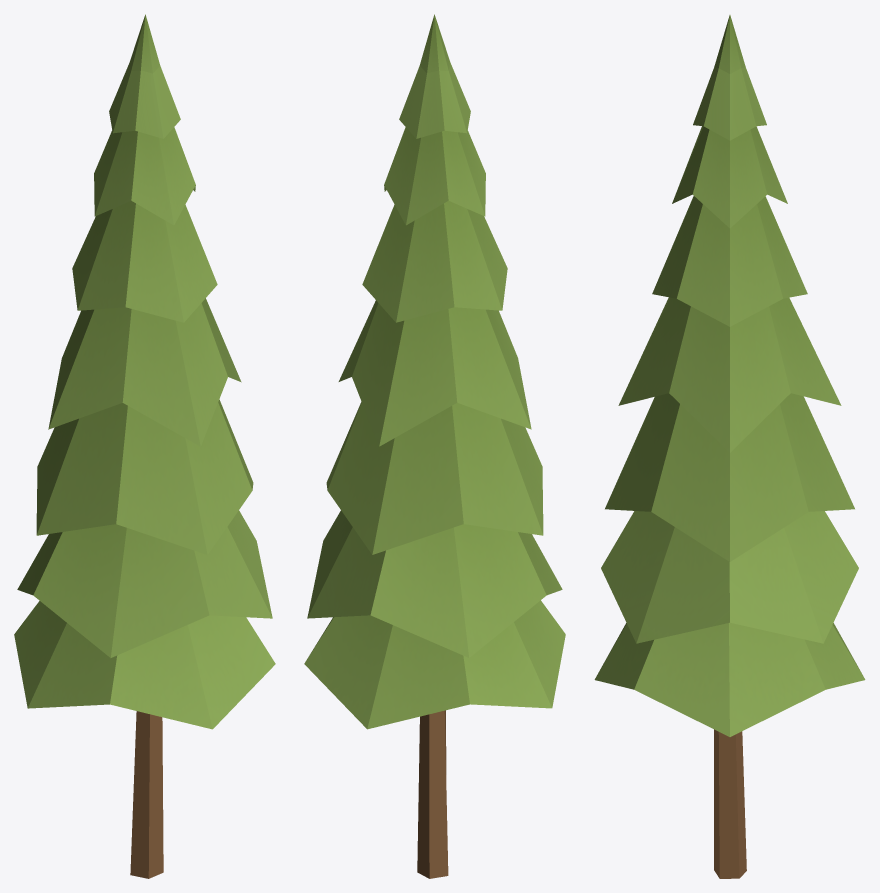
Rendered from Pine_Tree_OneSided_l_03.fbx.
The picture shows the model from 3 angles, left to right: view 1: azimuth 30°, elevation 25°; view 2: azimuth 150°, elevation 25°; view 3: azimuth 270°, elevation 25°; orthographic projection.
Visible parts, largest first — view 1: Pine_Tree_OneSided_l_03; view 2: Pine_Tree_OneSided_l_03; view 3: Pine_Tree_OneSided_l_03.
Boxes of the visible parts, bbox=[...] form: Pine_Tree_OneSided_l_03: bbox=[14, 14, 275, 878]; Pine_Tree_OneSided_l_03: bbox=[304, 14, 565, 878]; Pine_Tree_OneSided_l_03: bbox=[594, 15, 865, 878].
Size of the model in its own units: 558 by 1950 by 558.
